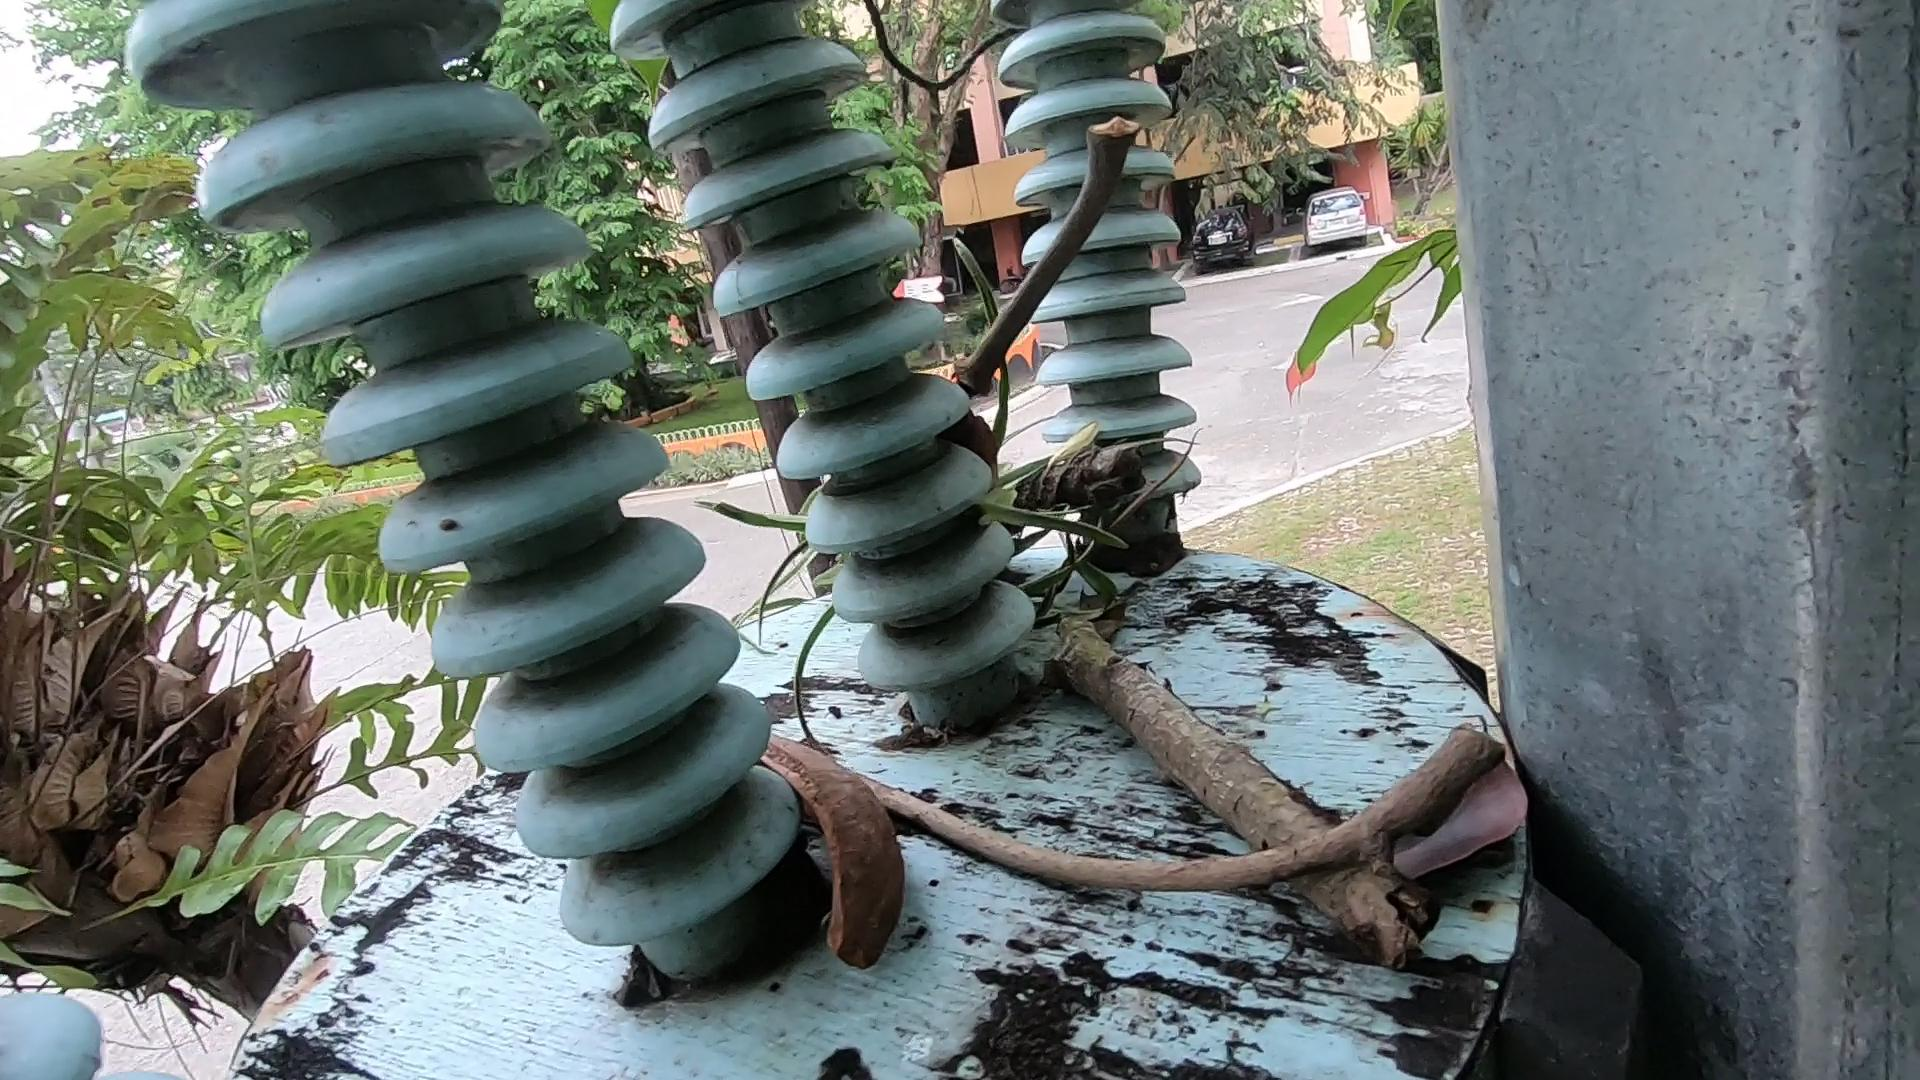branch with leaves: (905, 444, 1491, 969)
leaf: (1410, 752, 1542, 915)
mahogany fruit: (720, 709, 957, 1011)
tree branch: (931, 109, 1141, 455), (855, 796, 1491, 876)
